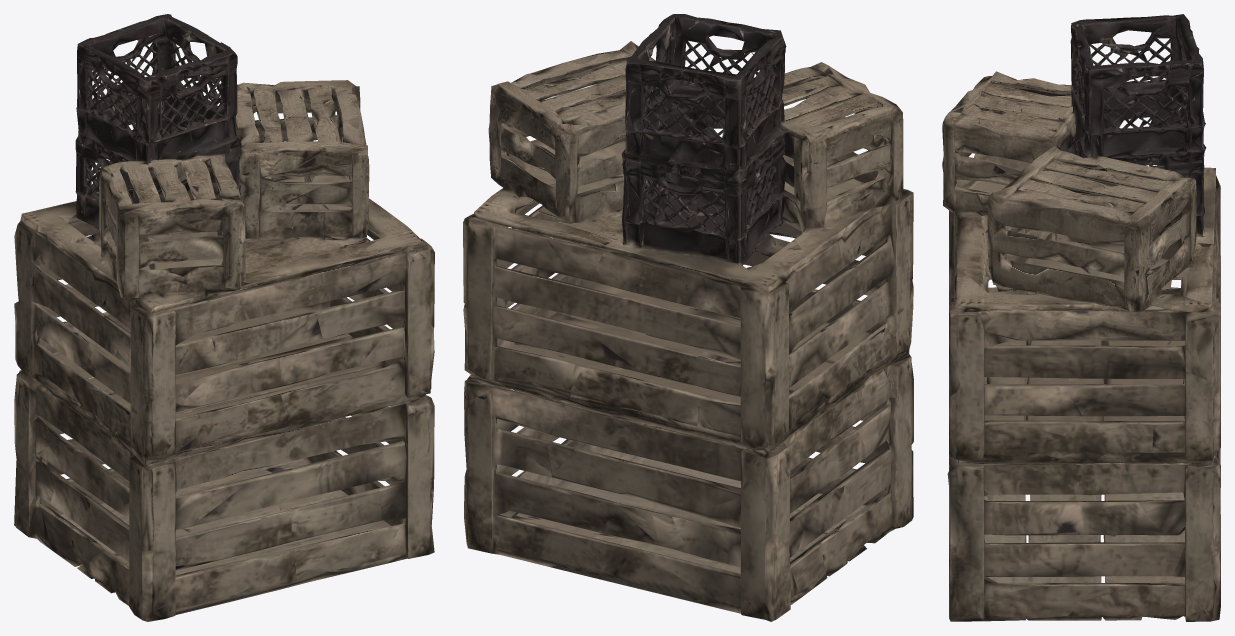
Rendered from caisses.glb.
3 views of the same model, side by side, from view 1: azimuth 30°, elevation 25°; view 2: azimuth 150°, elevation 25°; view 3: azimuth 270°, elevation 25° (orthographic). The views are drawn at different scales.
Size of the model in its own units: 1.29 by 1.9 by 0.9813.
1 material, 1 textured.
